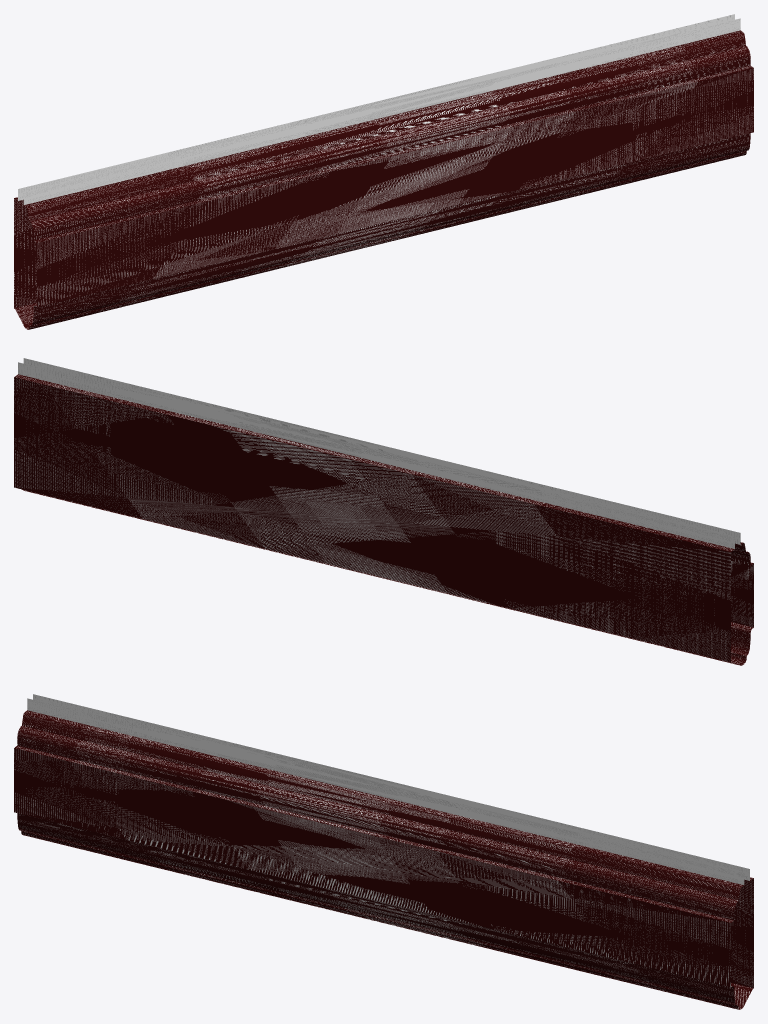
Rendered from original-43.obj.
3 renders of one model, top to bottom at view 1: azimuth 30°, elevation 25°; view 2: azimuth 150°, elevation 25°; view 3: azimuth 330°, elevation 25°, orthographic.
Visible parts, largest first — view 1: LT_11_BC1/LT_11_BC/mesh34/mesh34-geometry#mesh34-geometry; view 2: LT_11_BC1/LT_11_BC/mesh34/mesh34-geometry#mesh34-geometry; view 3: LT_11_BC1/LT_11_BC/mesh34/mesh34-geometry#mesh34-geometry.
Boxes of the visible parts, x1=… form: LT_11_BC1/LT_11_BC/mesh34/mesh34-geometry#mesh34-geometry: x1=14, y1=14, x2=753, y2=329; LT_11_BC1/LT_11_BC/mesh34/mesh34-geometry#mesh34-geometry: x1=14, y1=358, x2=753, y2=665; LT_11_BC1/LT_11_BC/mesh34/mesh34-geometry#mesh34-geometry: x1=14, y1=694, x2=753, y2=1009.
Size of the model in its own units: 0.5048 by 0.09 by 0.0281.
